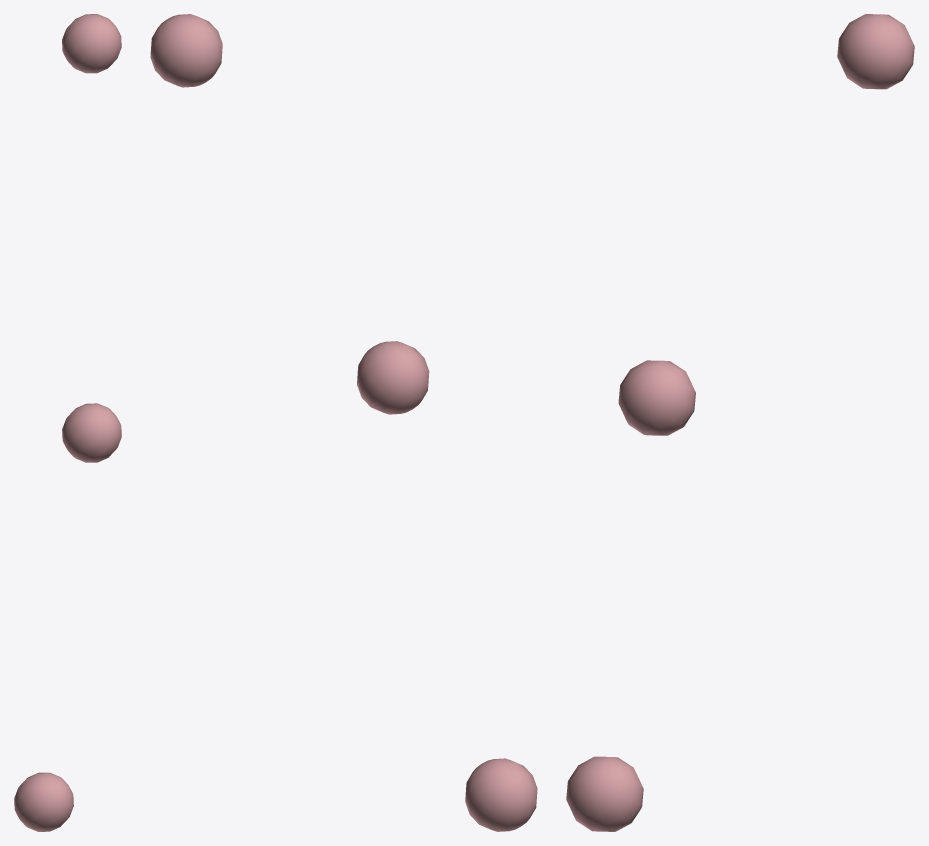
3 views of the same model, side by side, from view 1: azimuth 30°, elevation 25°; view 2: azimuth 150°, elevation 25°; view 3: azimuth 270°, elevation 25° (orthographic). The views are drawn at different scales.
Visible parts, largest first — view 1: ZA_da42add18bb8c26e; view 2: ZA_da42add18bb8c26e; view 3: ZA_da42add18bb8c26e.
Boxes of the visible parts, box(x1,y1,x2,y2) form: ZA_da42add18bb8c26e: box(14, 14, 121, 831); ZA_da42add18bb8c26e: box(150, 14, 537, 831); ZA_da42add18bb8c26e: box(566, 14, 914, 831).
Size of the model in its own units: 0.0101 by 0.0331 by 0.0115.
